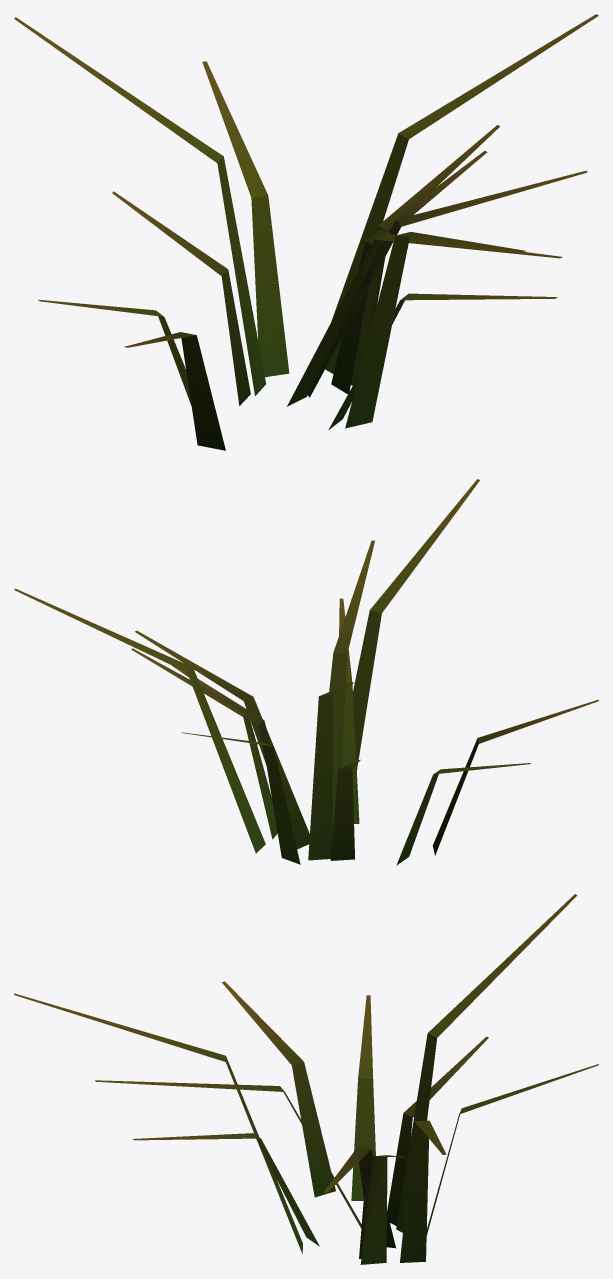
The model's file is fm_grass_lod1.glb.
3 renders of one model, top to bottom at view 1: azimuth 30°, elevation 25°; view 2: azimuth 150°, elevation 25°; view 3: azimuth 270°, elevation 25°, orthographic. The views are drawn at different scales.
Visible parts, largest first — view 1: fm_grass_lod1; view 2: fm_grass_lod1; view 3: fm_grass_lod1.
Boxes of the visible parts, x1=… form: fm_grass_lod1: x1=14, y1=14, x2=598, y2=450; fm_grass_lod1: x1=14, y1=479, x2=598, y2=865; fm_grass_lod1: x1=14, y1=894, x2=598, y2=1264.
Bounding box in the file's own units: 2.23 × 1.17 × 2.22.
